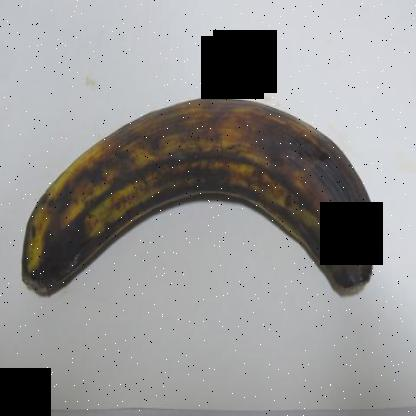overripe: (16, 84, 382, 320)
